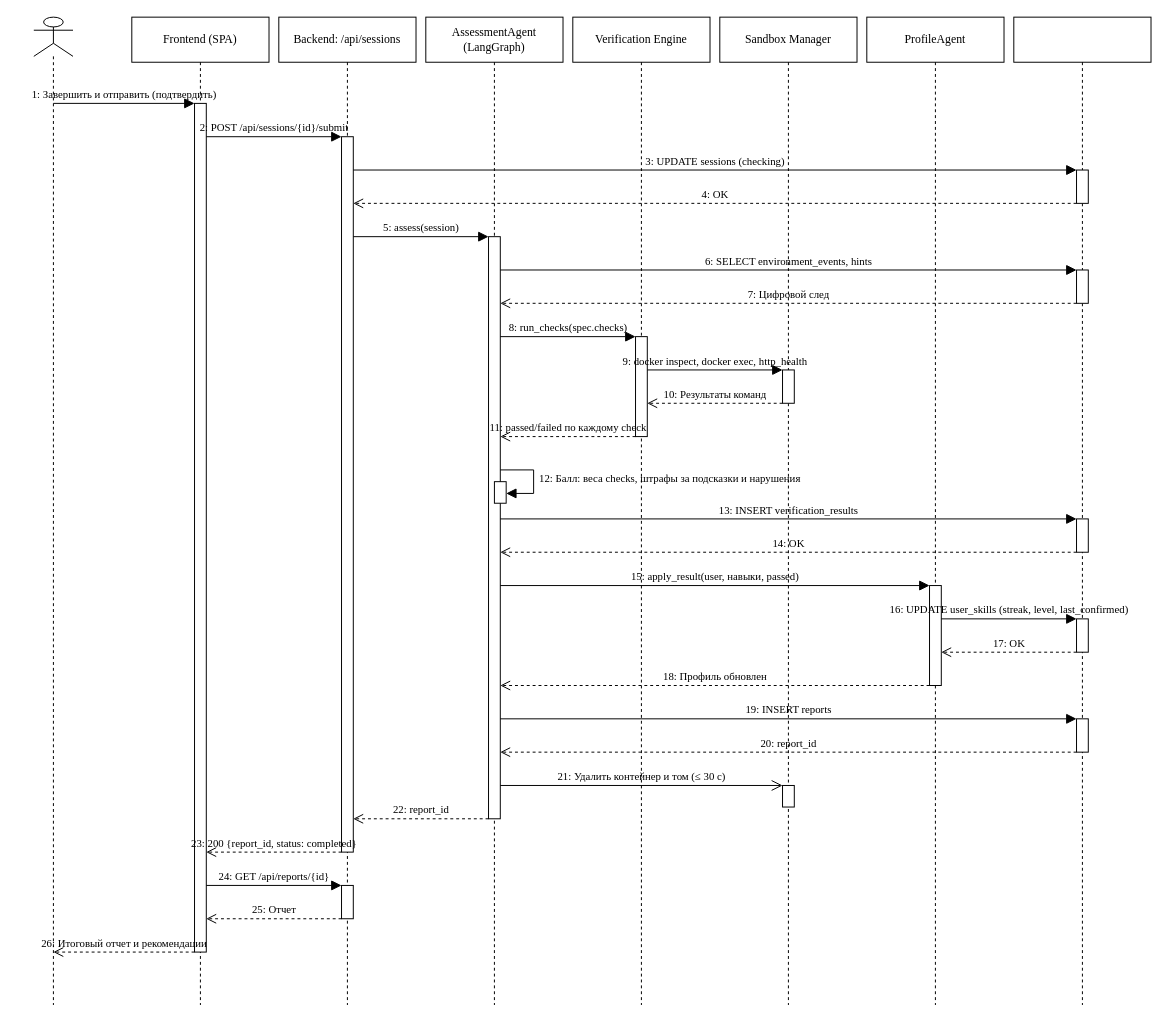
Image size: 1168x1022. Some labels were removed from this diagram. The shapes that lost their labels are listed below. From the top down, each one's box as (x1, y1, x2, y2) in pixels, then its label:
(33, 16, 73, 1005): Обучающийся
(1013, 16, 1151, 1005): PostgreSQL
